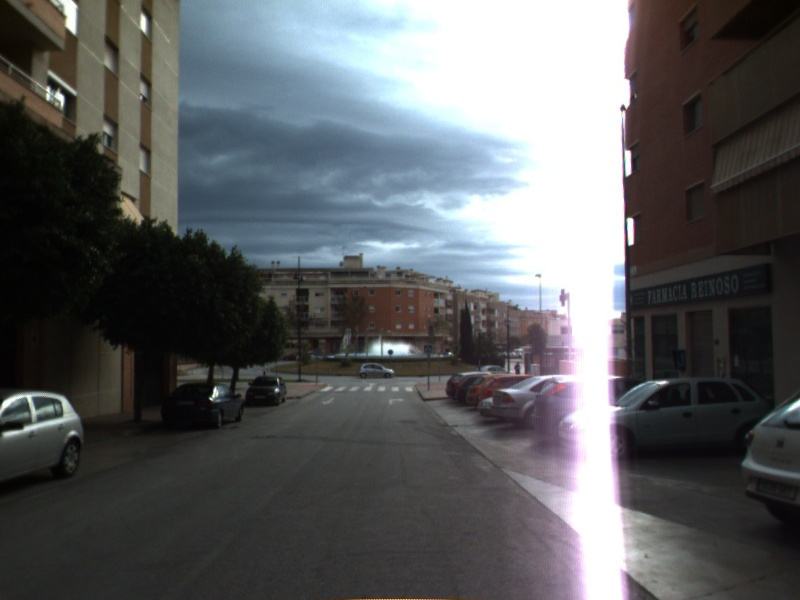RIGHT: (387, 396, 406, 406)
